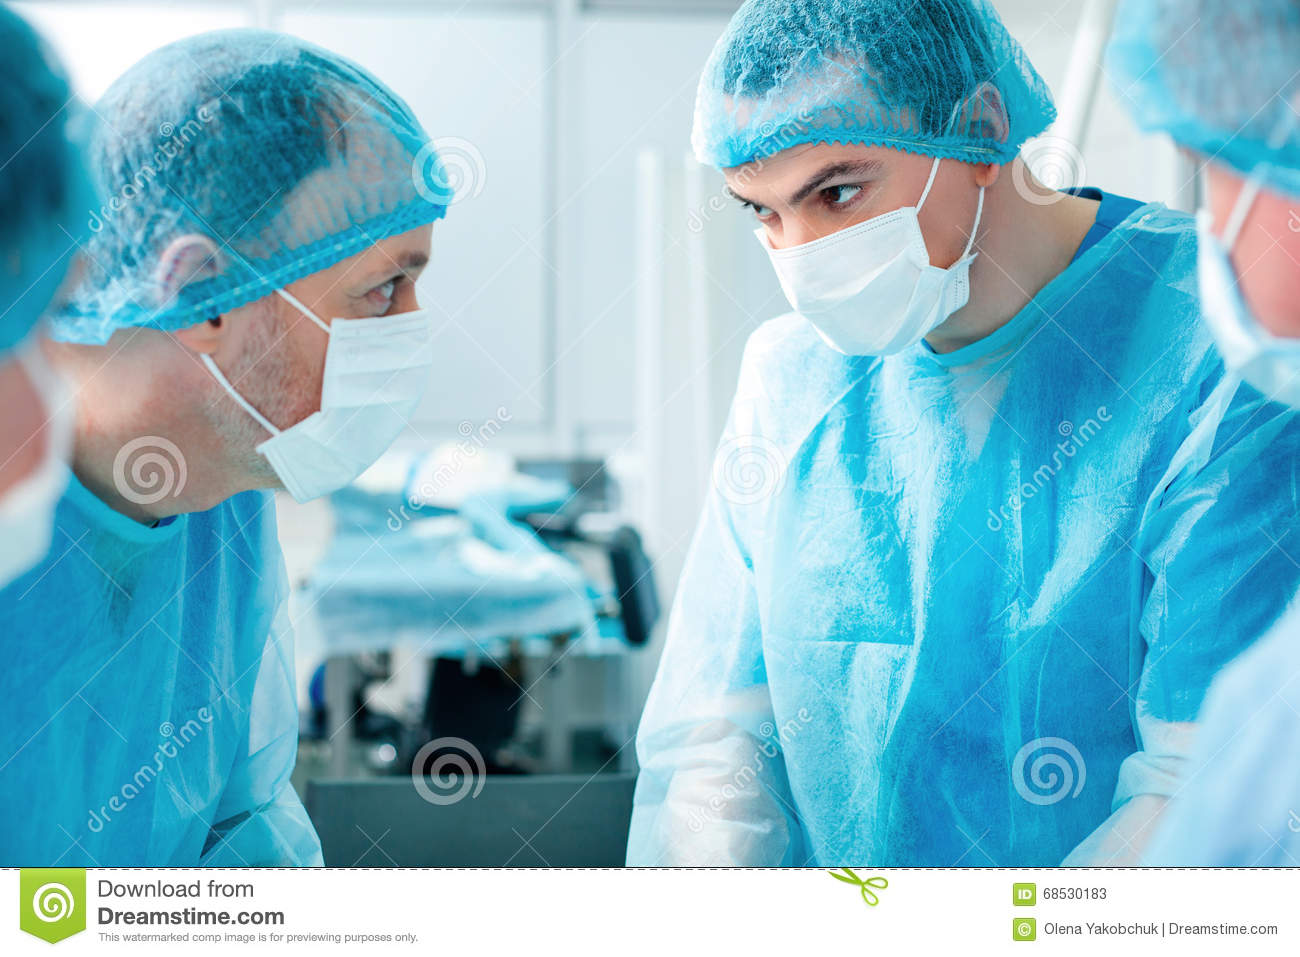mask: (751, 230, 979, 374), (282, 308, 438, 514)
